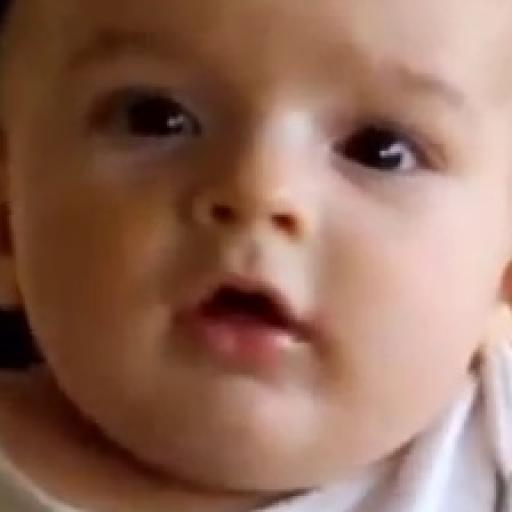Autism: (8, 6, 512, 511)
